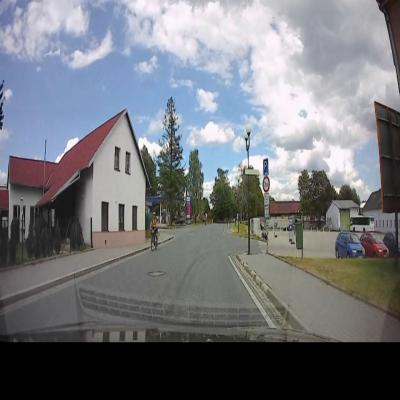clear-road: (82, 223, 252, 307)
